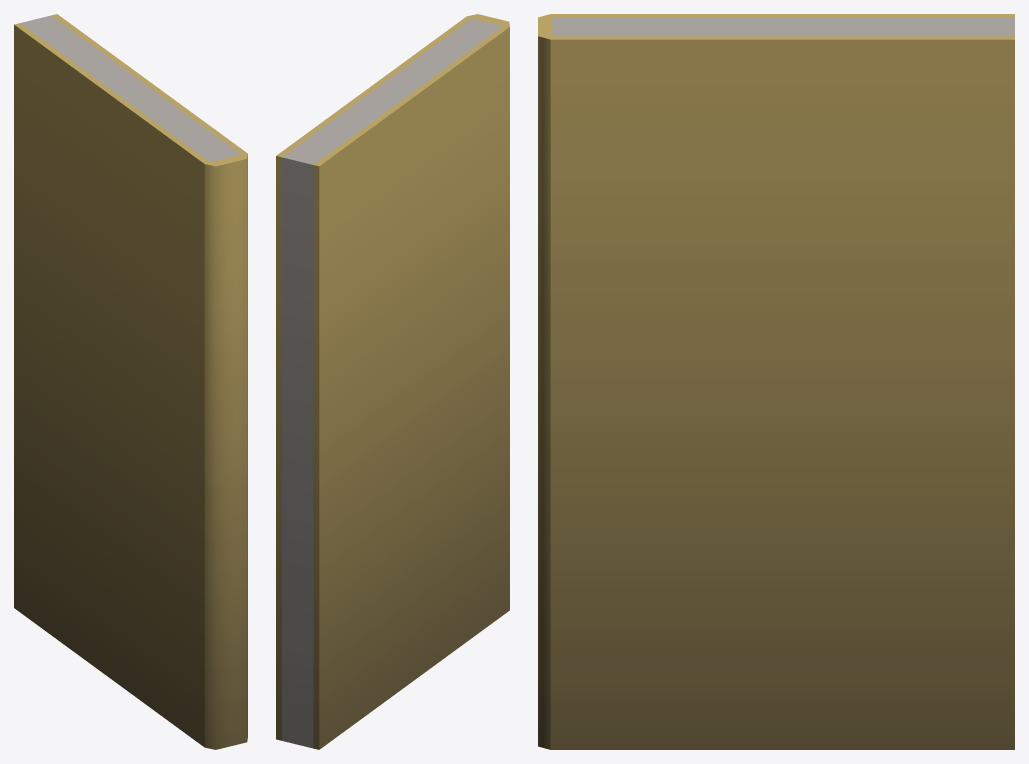
The model's file is Book_E.fbx.
3 views of the same model, side by side, from view 1: azimuth 30°, elevation 25°; view 2: azimuth 150°, elevation 25°; view 3: azimuth 270°, elevation 25° (orthographic). The views are drawn at different scales.
Visible parts, largest first — view 1: Book_E; view 2: Book_E; view 3: Book_E.
Part boxes in pixels (box(x1,y1,x2,y2)): Book_E: box(14, 14, 247, 749); Book_E: box(276, 14, 509, 749); Book_E: box(538, 14, 1014, 749).
Size of the model in its own units: 2.5 by 32.26 by 19.63.
